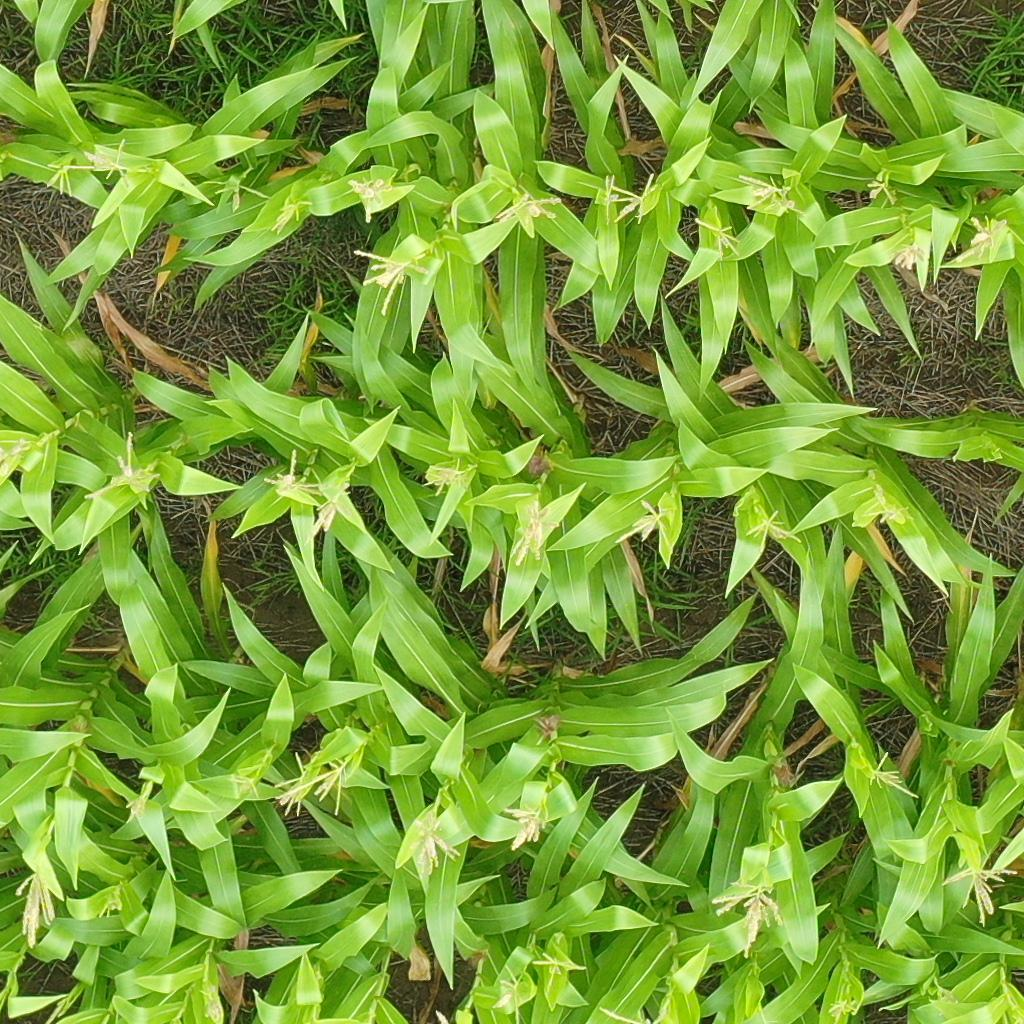Tassel: (352, 242, 429, 317), (711, 879, 783, 959), (404, 788, 461, 880), (82, 432, 160, 499), (942, 864, 1019, 929), (277, 756, 357, 816), (10, 869, 56, 952), (302, 480, 352, 551), (614, 499, 675, 554), (263, 448, 330, 498), (510, 500, 560, 567), (737, 172, 805, 216), (84, 137, 137, 188), (204, 176, 272, 213), (612, 173, 659, 226), (271, 752, 308, 819), (744, 509, 801, 552), (493, 192, 563, 227), (490, 962, 529, 1024), (868, 751, 918, 799), (532, 950, 586, 994), (956, 218, 1006, 264), (349, 175, 393, 226), (504, 804, 550, 852), (696, 217, 743, 263), (861, 488, 911, 525), (597, 1000, 671, 1024), (423, 461, 473, 496), (601, 174, 634, 223), (46, 163, 96, 195), (271, 200, 311, 239), (126, 779, 154, 825), (1, 438, 33, 478), (931, 978, 960, 1019), (226, 768, 263, 800), (863, 174, 898, 206), (895, 241, 928, 273), (97, 890, 125, 919), (202, 988, 224, 1023), (827, 999, 857, 1024), (44, 998, 69, 1024)
